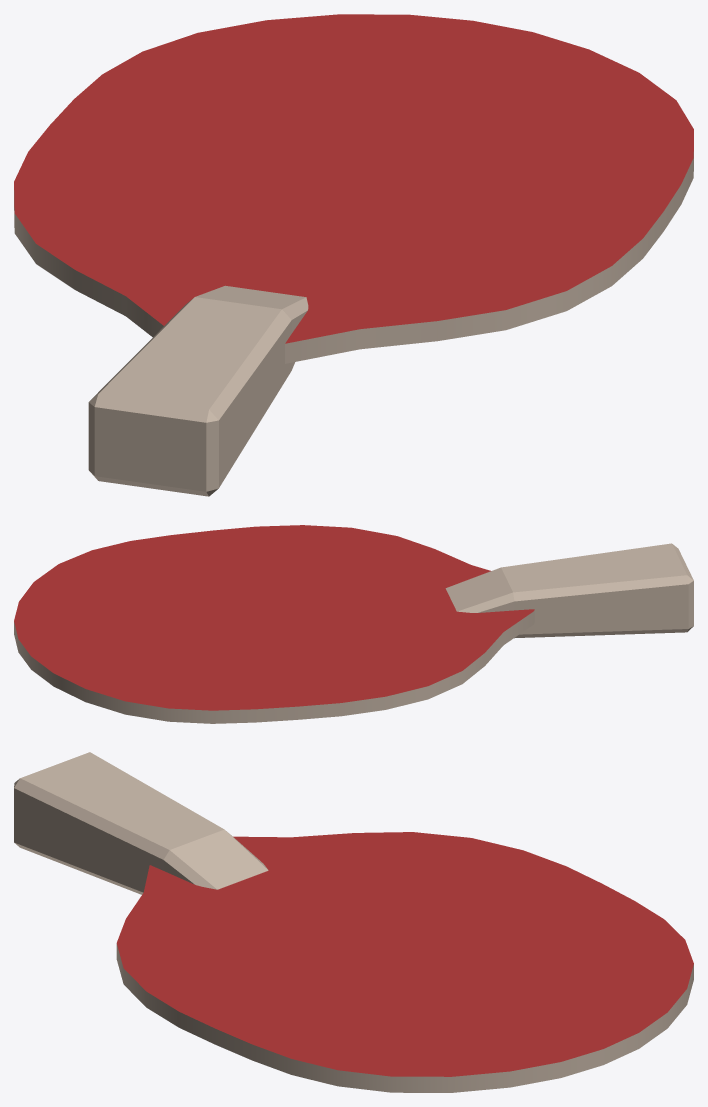
Rendered from racket_red.glb.
3 views of the same model, one above another, from view 1: azimuth 30°, elevation 25°; view 2: azimuth 150°, elevation 25°; view 3: azimuth 270°, elevation 25° (orthographic). The views are drawn at different scales.
Visible parts, largest first — view 1: red paddle; view 2: red paddle; view 3: red paddle.
Boxes of the visible parts, bbox=[...] form: red paddle: bbox=[14, 14, 693, 496]; red paddle: bbox=[14, 525, 693, 723]; red paddle: bbox=[14, 752, 693, 1092].
Bounding box in the file's own units: 0.2234 × 0.024 × 0.2125.
1 material, 1 textured.
